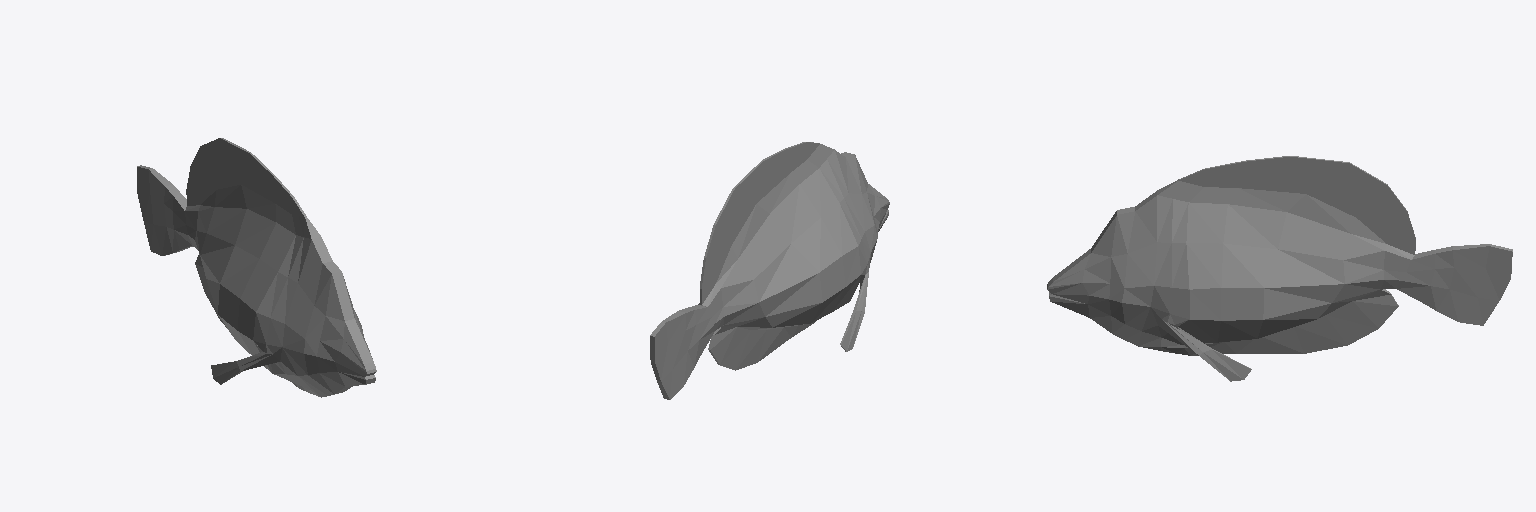
The model's file is TropicalFish08.obj.
3 renders of one model, left to right at view 1: azimuth 30°, elevation 25°; view 2: azimuth 150°, elevation 25°; view 3: azimuth 270°, elevation 25°, orthographic.
Parts seen in each view (by area): view 1: TropicalFish08; view 2: TropicalFish08; view 3: TropicalFish08.
Part boxes in pixels (x1,y1,x2,y2): TropicalFish08: (137, 138, 376, 397); TropicalFish08: (650, 142, 889, 399); TropicalFish08: (1047, 156, 1512, 381).
Bounding box in the file's own units: 2.34 × 3.65 × 7.74.